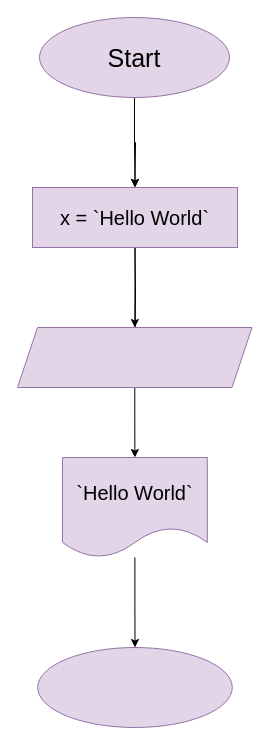
This 270x745 diagram has some shape labels left out. Each missing label, with the centre of its shape:
console.log(x): point 134,357
end: point 134,687
